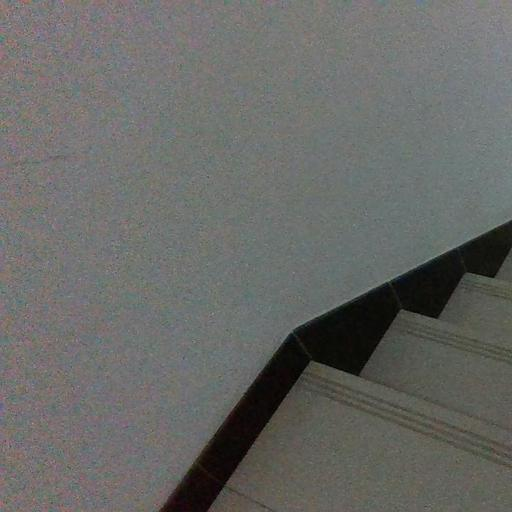Stairs: (160, 220, 512, 512)
